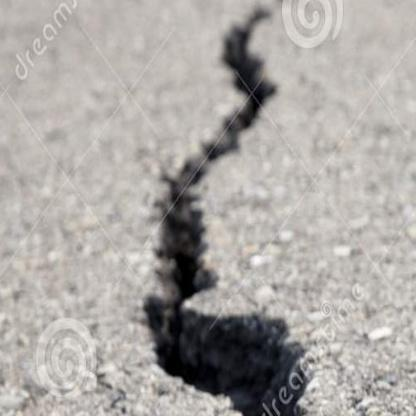Cracks: (144, 162, 308, 416), (203, 13, 279, 163)
